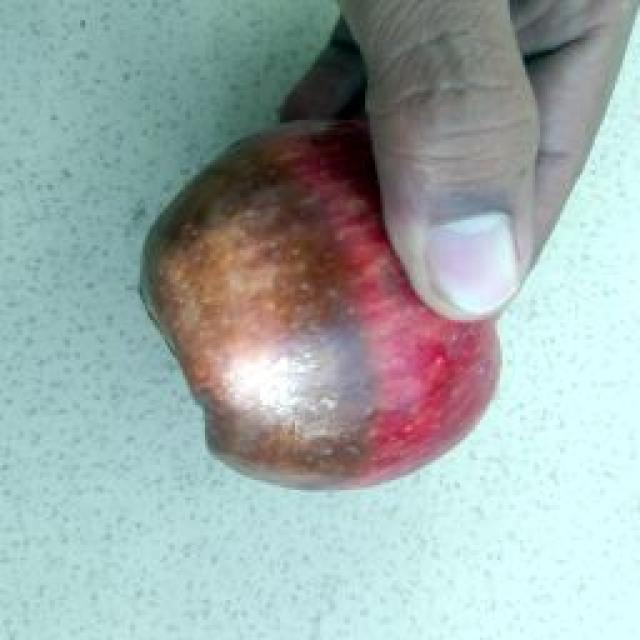Bad_Apple: (142, 122, 499, 487)
